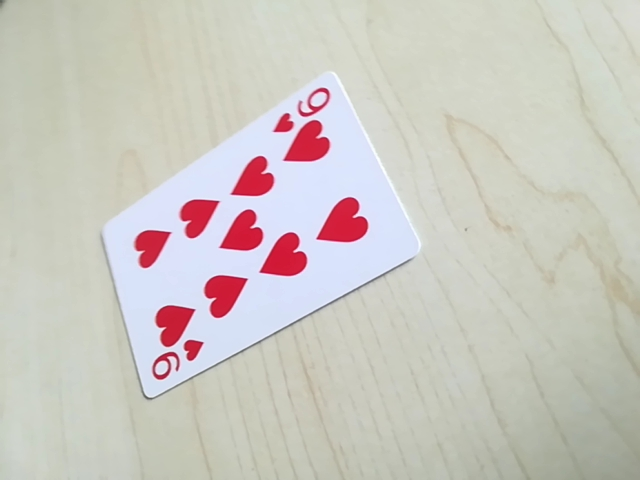hx 9: (270, 82, 335, 136), (147, 341, 207, 388)
